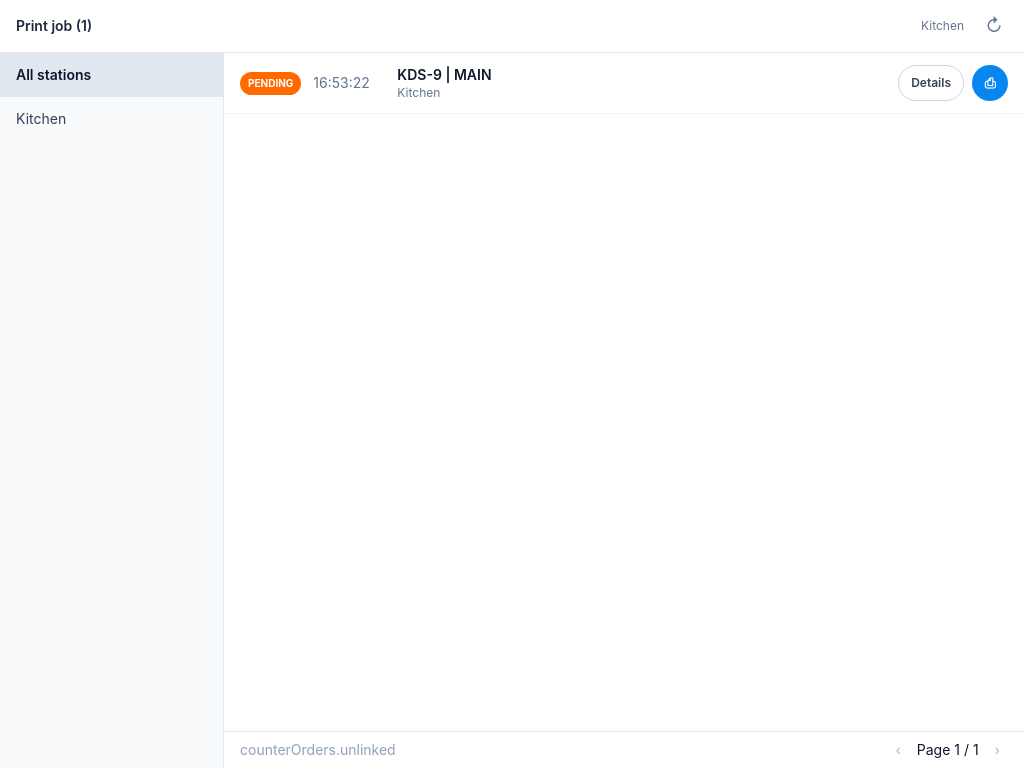
Test: CounterOrdersPage integration › opens ticket details with the returned items
Expected: the button named "Print KDS-9" is shown, [972,65,1008,101]
Click the button "Details": (931,83) [898,65,964,101]
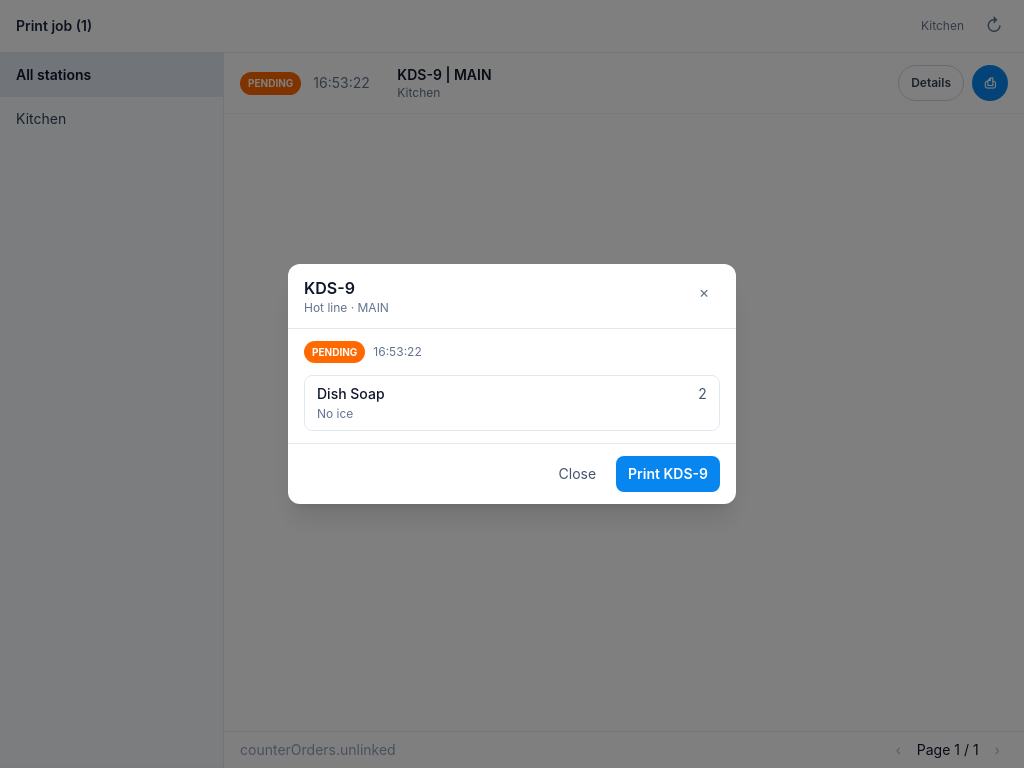
Expected: the dialog is shown, [288,264,736,504]
Expected: the text "Dish Soap" is shown, [317,384,385,404]
Expected: the text "Hot line · MAIN" is shown, [304,300,389,316]
